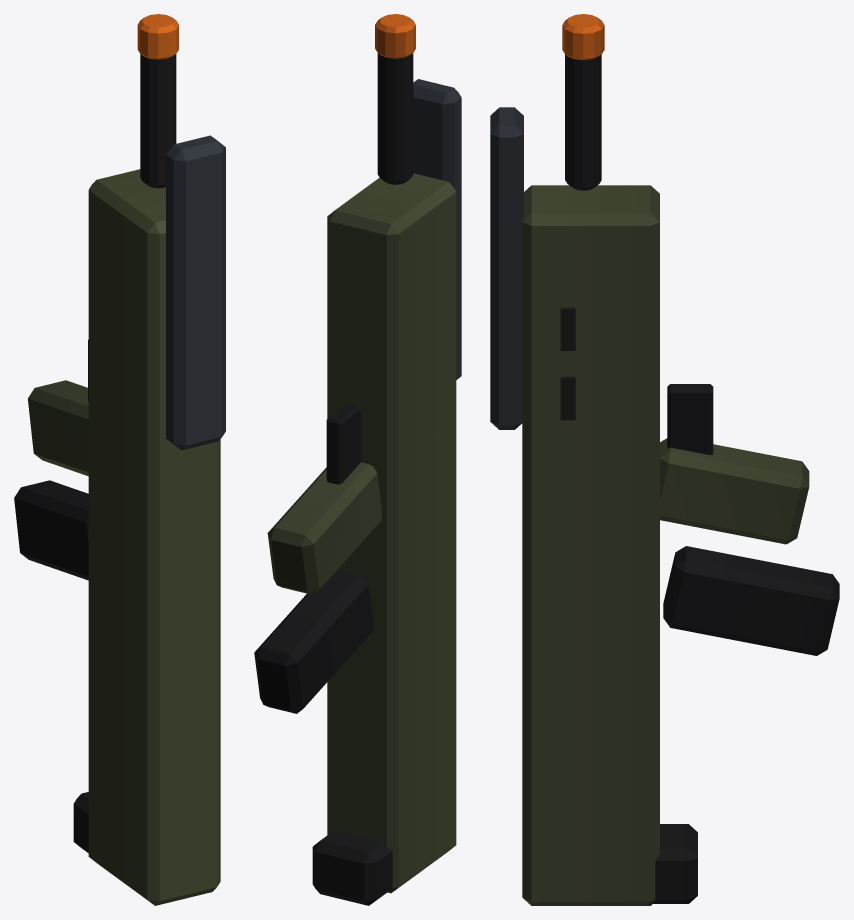
Rendered from bullpup.glb.
The picture shows the model from 3 angles, left to right: view 1: azimuth 30°, elevation 25°; view 2: azimuth 150°, elevation 25°; view 3: azimuth 270°, elevation 25°; orthographic projection. The views are drawn at different scales.
Parts seen in each view (by area): view 1: bullpup; view 2: bullpup; view 3: bullpup.
Part boxes in pixels (box(x1,y1,x2,y2)): bullpup: box(14, 14, 225, 905); bullpup: box(254, 14, 461, 905); bullpup: box(490, 14, 839, 905).
Bounding box in the file's own units: 0.059 × 0.629 × 0.2287.
